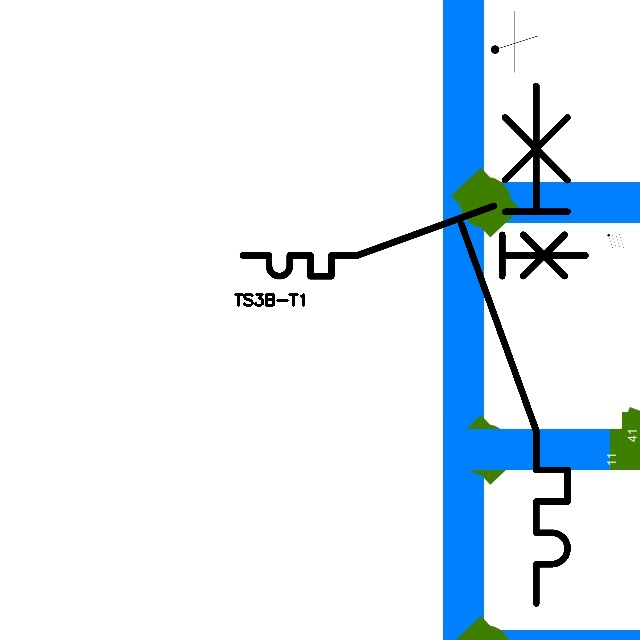interruptor_termomagnetico: (448, 72, 581, 616), (234, 197, 594, 285)
